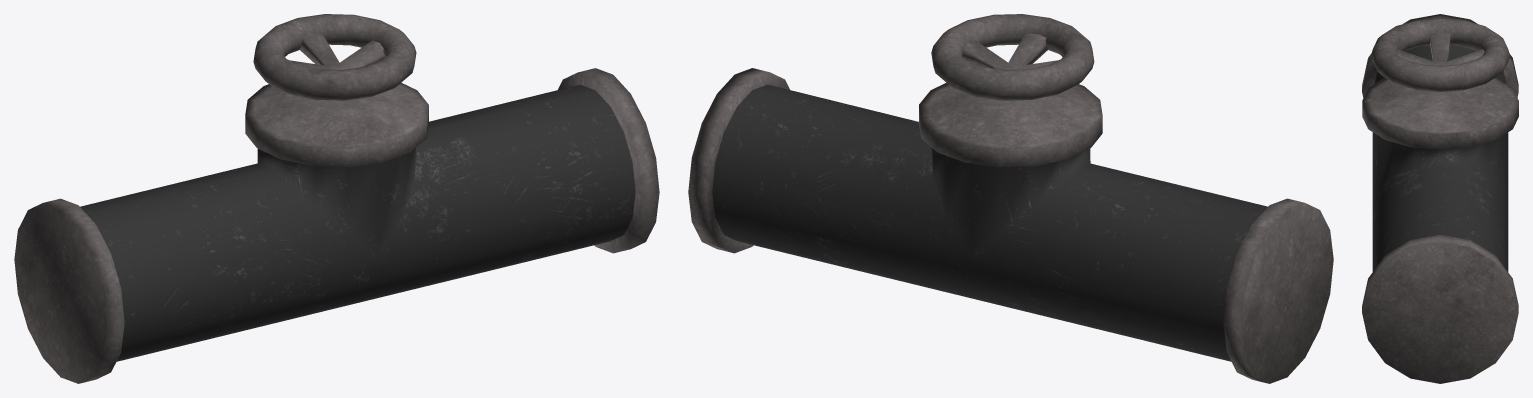
File: PipeWheel.fbx
3 renders of one model, left to right at view 1: azimuth 30°, elevation 25°; view 2: azimuth 150°, elevation 25°; view 3: azimuth 270°, elevation 25°, orthographic. The views are drawn at different scales.
Visible parts, largest first — view 1: PipeWheel; view 2: PipeWheel; view 3: PipeWheel.
Boxes of the visible parts, box(x1,y1,x2,y2) form: PipeWheel: box(14, 14, 659, 383); PipeWheel: box(688, 14, 1333, 383); PipeWheel: box(1362, 14, 1518, 383).
Bounding box in the file's own units: 100 × 46.18 × 29.06.
1 material, 1 textured.
